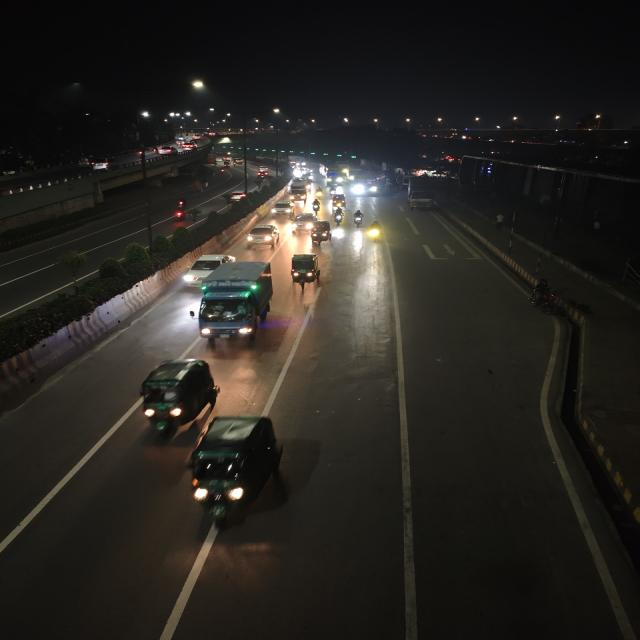bus: (348, 169, 384, 197), (322, 167, 346, 184)
car: (182, 252, 233, 284), (243, 223, 283, 251), (290, 212, 316, 232), (269, 199, 296, 217), (288, 181, 308, 201), (88, 157, 113, 171), (226, 189, 249, 203), (158, 146, 177, 156), (256, 167, 269, 178), (180, 144, 193, 153)
cng: (182, 412, 291, 536), (134, 354, 220, 441), (287, 251, 324, 293), (310, 219, 334, 247), (172, 201, 202, 223), (330, 192, 345, 208)
motorcycle: (527, 278, 564, 317), (170, 196, 192, 222), (363, 219, 384, 243), (352, 208, 365, 228), (312, 198, 324, 216), (333, 208, 345, 225)
truck: (190, 260, 275, 346), (404, 176, 438, 212), (288, 178, 308, 200)
